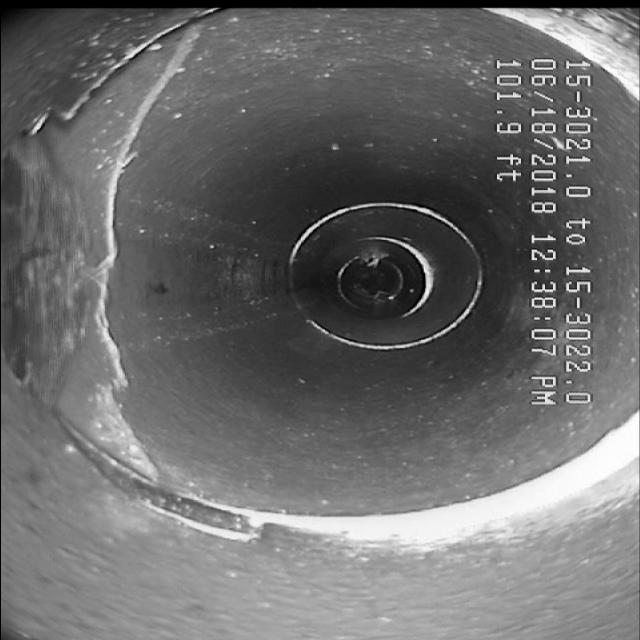Crack: (62, 46, 228, 486)
